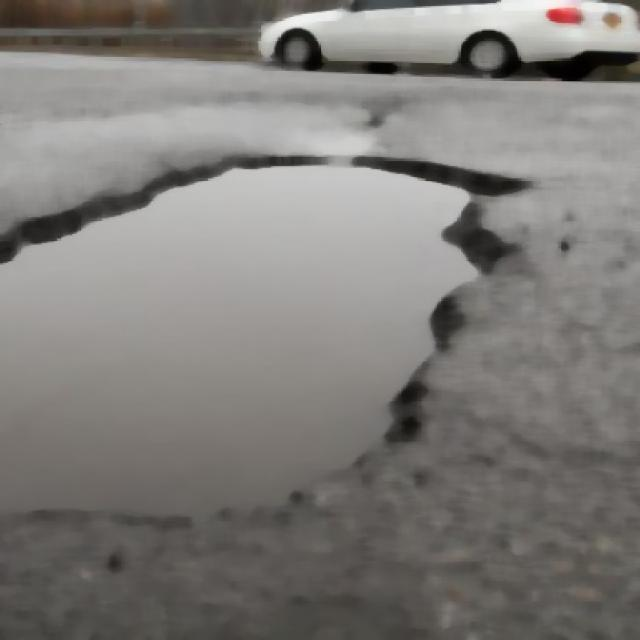Pothole: (0, 153, 515, 504)
